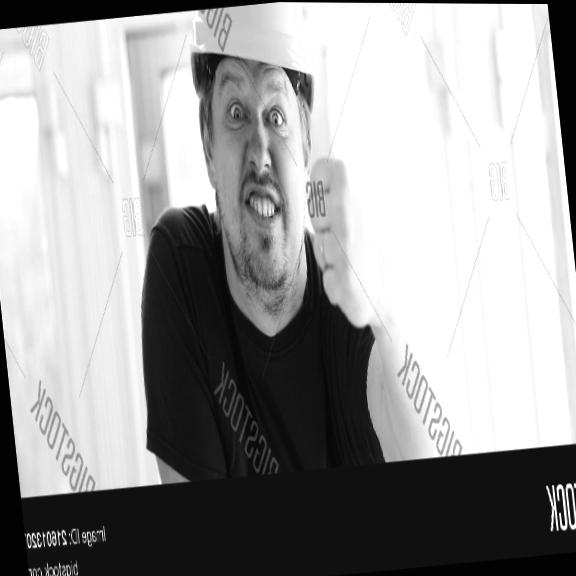no_safety_vest: (118, 224, 388, 484)
